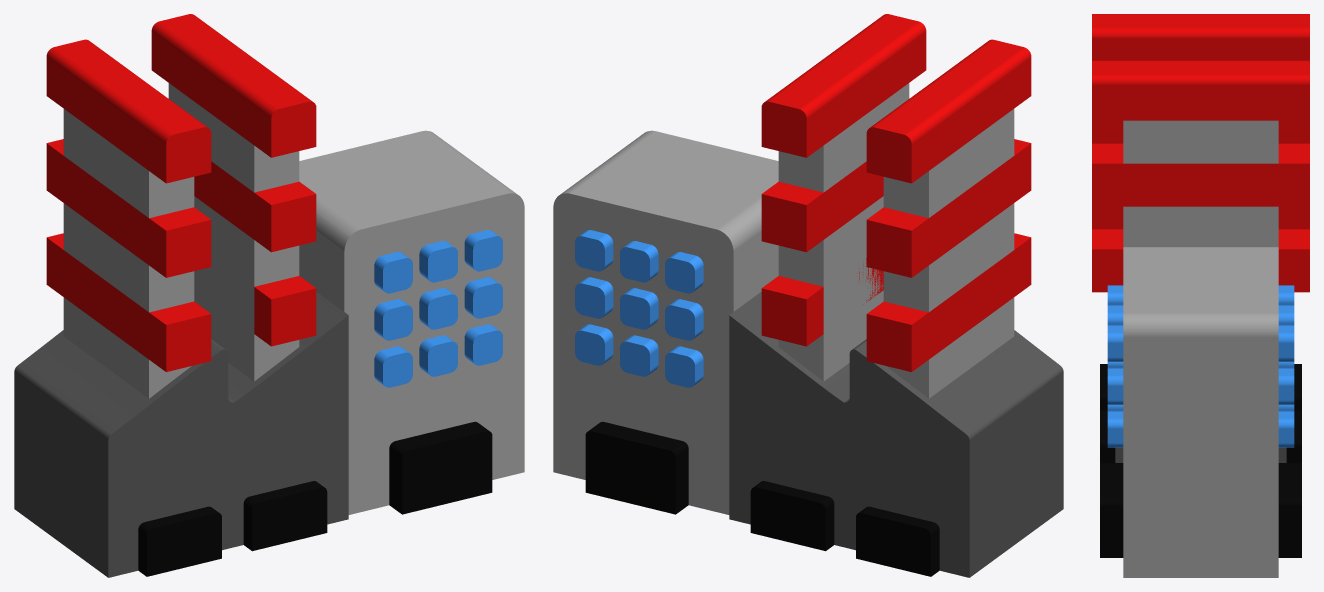
3 views of the same model, side by side, from view 1: azimuth 30°, elevation 25°; view 2: azimuth 150°, elevation 25°; view 3: azimuth 270°, elevation 25° (orthographic). The views are drawn at different scales.
Visible parts, largest first — view 1: U+1F3ED_layer00_obj00, U+1F3ED_layer01_obj00, U+1F3ED_layer04_obj00, U+1F3ED_layer03_obj00, U+1F3ED_layer02_obj00; view 2: U+1F3ED_layer00_obj00, U+1F3ED_layer01_obj00, U+1F3ED_layer04_obj00, U+1F3ED_layer03_obj00, U+1F3ED_layer02_obj00; view 3: U+1F3ED_layer00_obj00, U+1F3ED_layer04_obj00, U+1F3ED_layer03_obj00, U+1F3ED_layer02_obj00.
Boxes of the visible parts, left/top/right/bottom form: U+1F3ED_layer00_obj00: left=63, top=83, right=524, bottom=514; U+1F3ED_layer01_obj00: left=14, top=291, right=348, bottom=577; U+1F3ED_layer04_obj00: left=46, top=14, right=316, bottom=371; U+1F3ED_layer03_obj00: left=138, top=421, right=492, bottom=576; U+1F3ED_layer02_obj00: left=374, top=230, right=502, bottom=387; U+1F3ED_layer00_obj00: left=553, top=83, right=1014, bottom=514; U+1F3ED_layer01_obj00: left=729, top=291, right=1063, bottom=577; U+1F3ED_layer04_obj00: left=761, top=14, right=1031, bottom=371; U+1F3ED_layer03_obj00: left=585, top=421, right=939, bottom=576; U+1F3ED_layer02_obj00: left=575, top=230, right=703, bottom=387; U+1F3ED_layer00_obj00: left=1123, top=120, right=1278, bottom=577; U+1F3ED_layer04_obj00: left=1092, top=14, right=1309, bottom=292; U+1F3ED_layer03_obj00: left=1100, top=364, right=1301, bottom=557; U+1F3ED_layer02_obj00: left=1107, top=285, right=1294, bottom=447.
Bounding box in the file's own units: 0.5678 × 0.5677 × 0.28.
